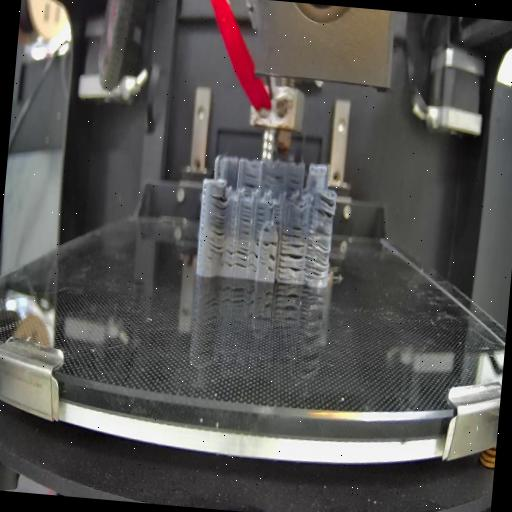cracks: (304, 228, 332, 281), (206, 195, 226, 255), (278, 241, 305, 277), (311, 194, 336, 218), (234, 244, 251, 270), (239, 206, 253, 237), (250, 235, 261, 273), (280, 224, 302, 240), (223, 242, 235, 270), (286, 174, 300, 192), (256, 207, 268, 226), (243, 174, 259, 188), (266, 254, 276, 274), (261, 238, 277, 249), (275, 204, 282, 226), (268, 174, 282, 179), (262, 226, 270, 234)
